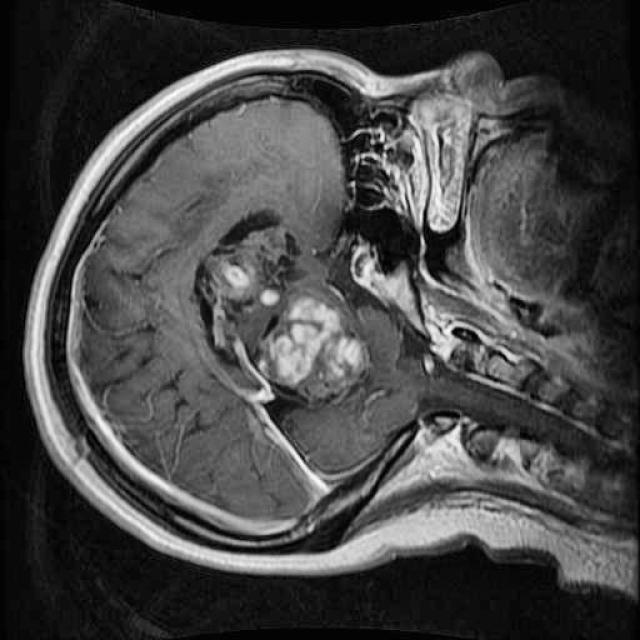Non-Tumor: (174, 214, 386, 436)
